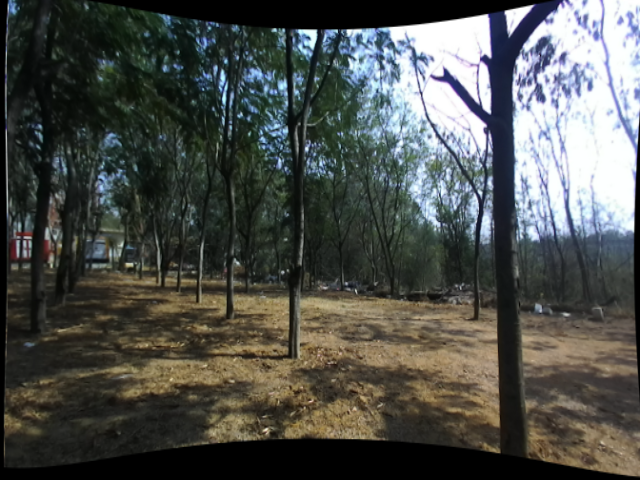tree: (435, 40, 557, 459), (250, 93, 347, 364)
